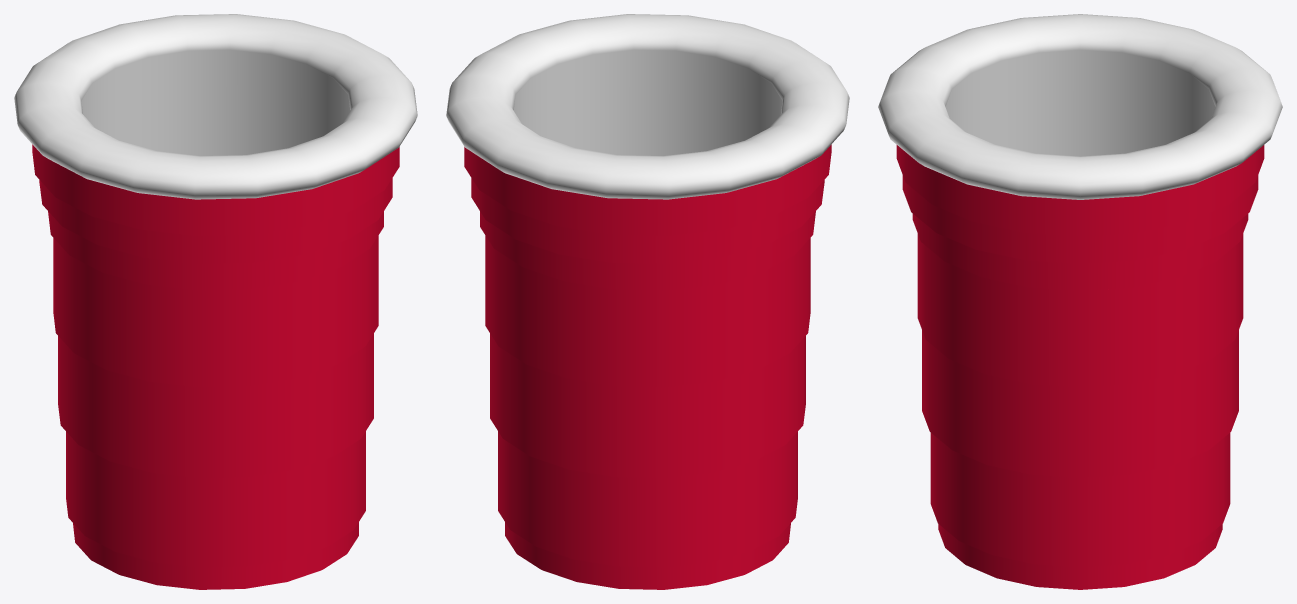
The picture shows the model from 3 angles, left to right: view 1: azimuth 30°, elevation 25°; view 2: azimuth 150°, elevation 25°; view 3: azimuth 270°, elevation 25°; orthographic projection.
Visible parts, largest first — view 1: $ColladaAutoName$_3, $ColladaAutoName$_7, $ColladaAutoName$_8, $ColladaAutoName$_9, $ColladaAutoName$_2, $ColladaAutoName$_4, $ColladaAutoName$_5, $ColladaAutoName$_6, $ColladaAutoName$_10; view 2: $ColladaAutoName$_3, $ColladaAutoName$_7, $ColladaAutoName$_8, $ColladaAutoName$_9, $ColladaAutoName$_2, $ColladaAutoName$_4, $ColladaAutoName$_5, $ColladaAutoName$_6, $ColladaAutoName$_10; view 3: $ColladaAutoName$_3, $ColladaAutoName$_7, $ColladaAutoName$_8, $ColladaAutoName$_9, $ColladaAutoName$_2, $ColladaAutoName$_4, $ColladaAutoName$_5, $ColladaAutoName$_6, $ColladaAutoName$_10.
Boxes of the visible parts, x1,y1,x2,y2 form: $ColladaAutoName$_3: (14, 14, 417, 199); $ColladaAutoName$_7: (53, 235, 378, 387); $ColladaAutoName$_8: (58, 333, 373, 478); $ColladaAutoName$_9: (66, 431, 365, 567); $ColladaAutoName$_2: (81, 50, 350, 155); $ColladaAutoName$_4: (32, 144, 399, 235); $ColladaAutoName$_5: (39, 178, 392, 263); $ColladaAutoName$_6: (48, 211, 383, 290); $ColladaAutoName$_10: (73, 522, 358, 589); $ColladaAutoName$_3: (446, 14, 849, 199); $ColladaAutoName$_7: (485, 235, 810, 387); $ColladaAutoName$_8: (490, 333, 805, 478); $ColladaAutoName$_9: (498, 431, 797, 567); $ColladaAutoName$_2: (513, 50, 782, 155); $ColladaAutoName$_4: (464, 144, 831, 235); $ColladaAutoName$_5: (471, 178, 824, 263); $ColladaAutoName$_6: (480, 211, 815, 290); $ColladaAutoName$_10: (505, 522, 790, 589); $ColladaAutoName$_3: (878, 14, 1282, 199); $ColladaAutoName$_7: (917, 234, 1243, 387); $ColladaAutoName$_8: (922, 330, 1238, 477); $ColladaAutoName$_9: (930, 433, 1230, 567); $ColladaAutoName$_2: (945, 50, 1215, 156); $ColladaAutoName$_4: (896, 145, 1264, 236); $ColladaAutoName$_5: (902, 175, 1258, 263); $ColladaAutoName$_6: (912, 214, 1248, 290); $ColladaAutoName$_10: (938, 524, 1222, 589).
Bounding box in the file's own units: 119 × 142 × 119.
